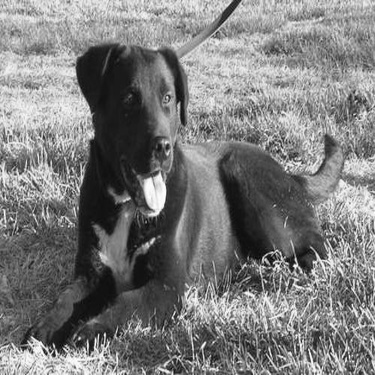dog: (17, 30, 354, 371)
